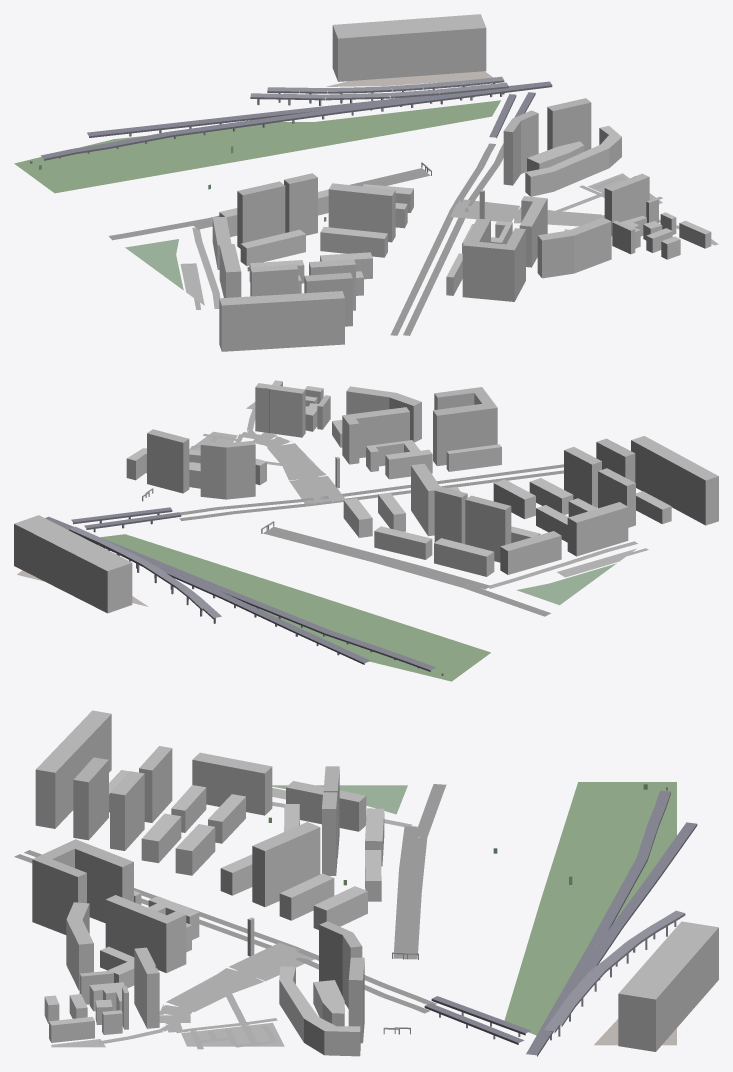
3 renders of one model, top to bottom at view 1: azimuth 30°, elevation 25°; view 2: azimuth 150°, elevation 25°; view 3: azimuth 270°, elevation 25°, orthographic. The views are drawn at different scales.
Bounding box in the file's own units: 572 × 62.38 × 563.
